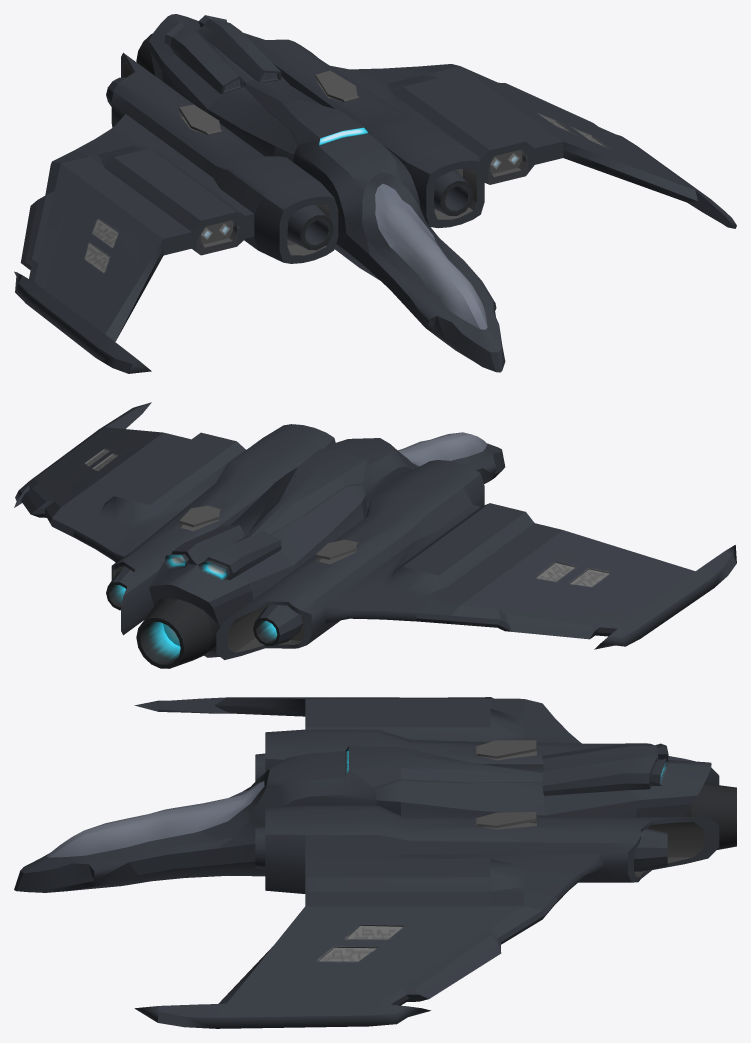
The model's file is Player_Ship.fbx.
The picture shows the model from 3 angles, top to bottom: view 1: azimuth 30°, elevation 25°; view 2: azimuth 150°, elevation 25°; view 3: azimuth 270°, elevation 25°; orthographic projection. The views are drawn at different scales.
Parts seen in each view (by area): view 1: Player_Ship:Player_Ship1; view 2: Player_Ship:Player_Ship1; view 3: Player_Ship:Player_Ship1.
Boxes of the visible parts, x1=… form: Player_Ship:Player_Ship1: x1=14, y1=14, x2=736, y2=373; Player_Ship:Player_Ship1: x1=14, y1=402, x2=736, y2=668; Player_Ship:Player_Ship1: x1=14, y1=697, x2=736, y2=1028.
Size of the model in its own units: 653 by 131 by 622.
